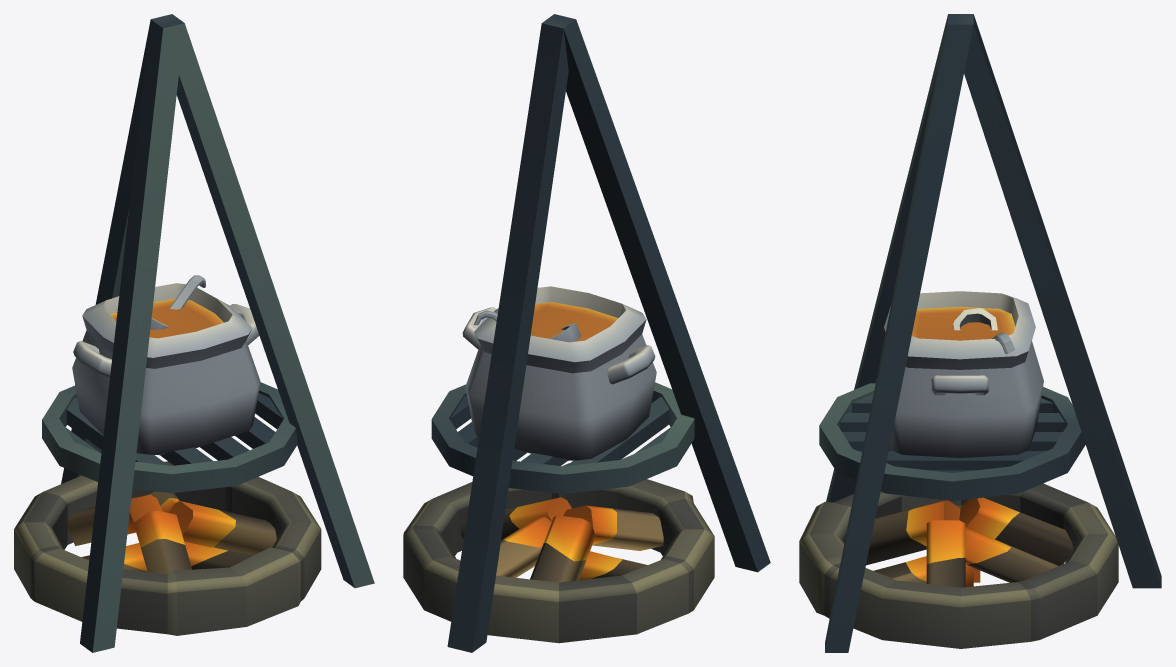
The model's file is fire_pit_grill_pot_soup.fbx.
3 views of the same model, side by side, from view 1: azimuth 30°, elevation 25°; view 2: azimuth 150°, elevation 25°; view 3: azimuth 270°, elevation 25° (orthographic). The views are drawn at different scales.
Parts seen in each view (by area): view 1: fire_pit_grill_pot_soup; view 2: fire_pit_grill_pot_soup; view 3: fire_pit_grill_pot_soup.
Boxes of the visible parts, bbox=[...] form: fire_pit_grill_pot_soup: bbox=[14, 14, 374, 652]; fire_pit_grill_pot_soup: bbox=[403, 14, 770, 652]; fire_pit_grill_pot_soup: bbox=[799, 14, 1161, 652].
Size of the model in its own units: 108 by 200 by 117.
